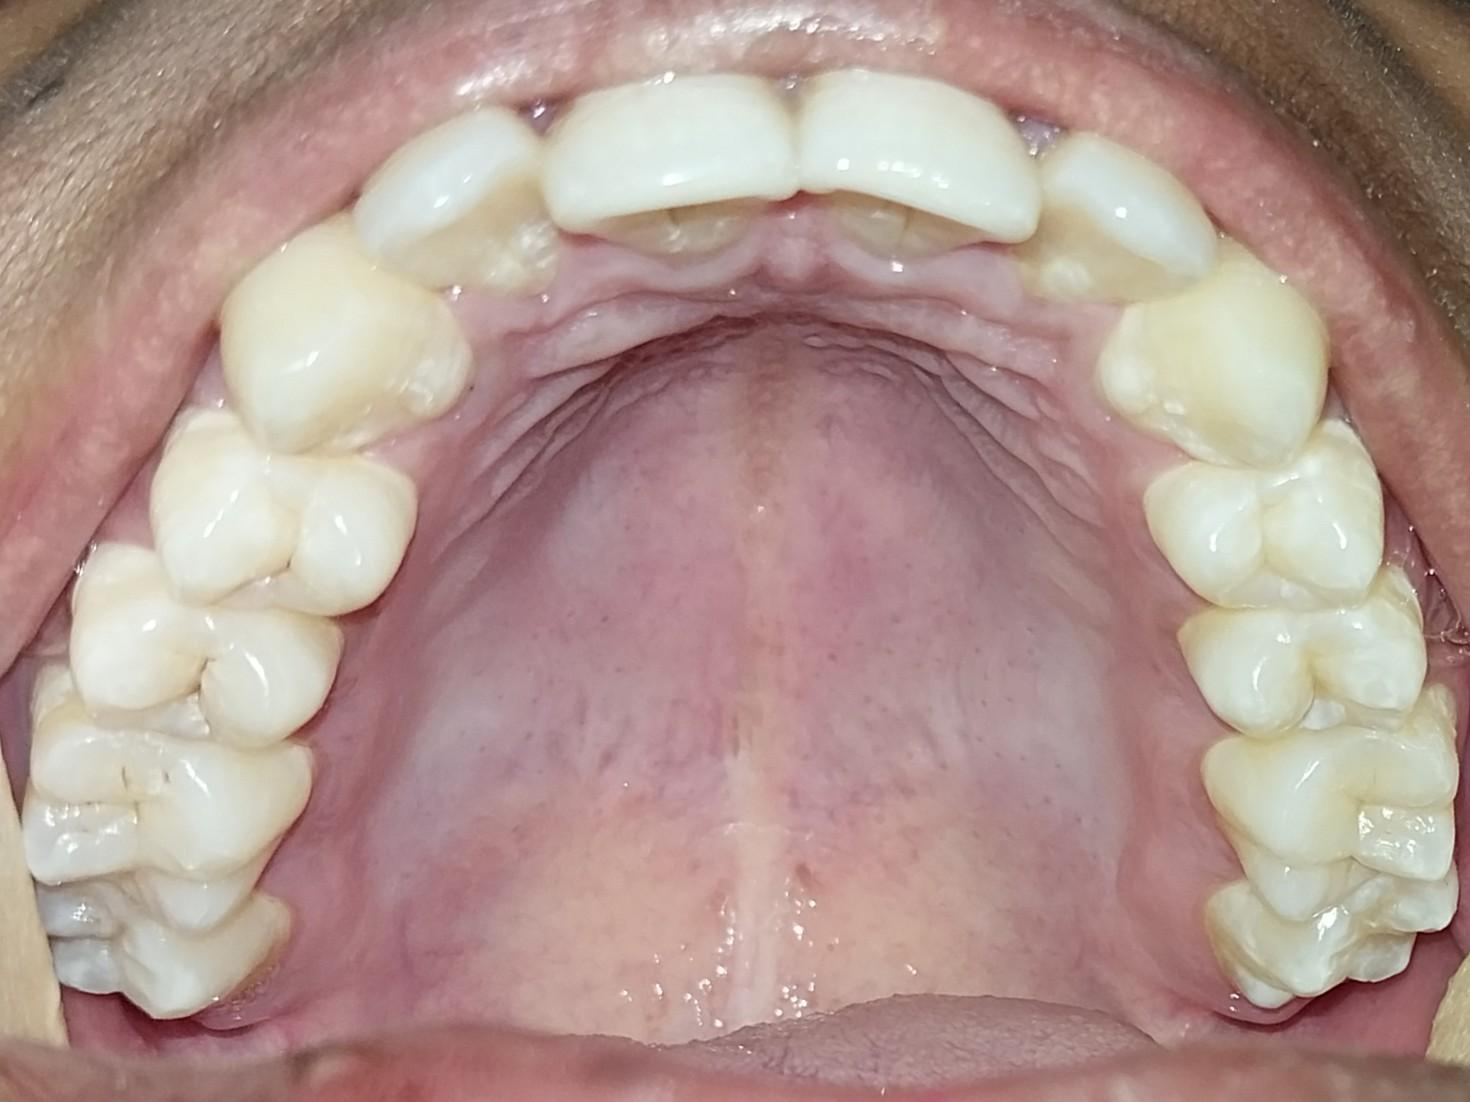D: (68, 547, 342, 746)
